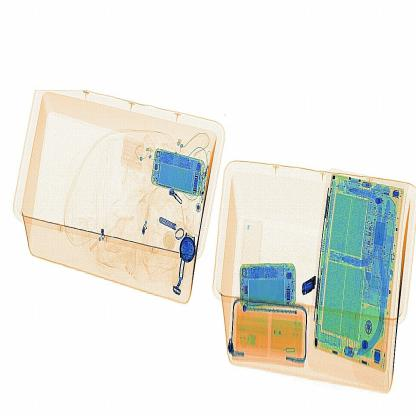knife: (297, 275, 320, 299)
